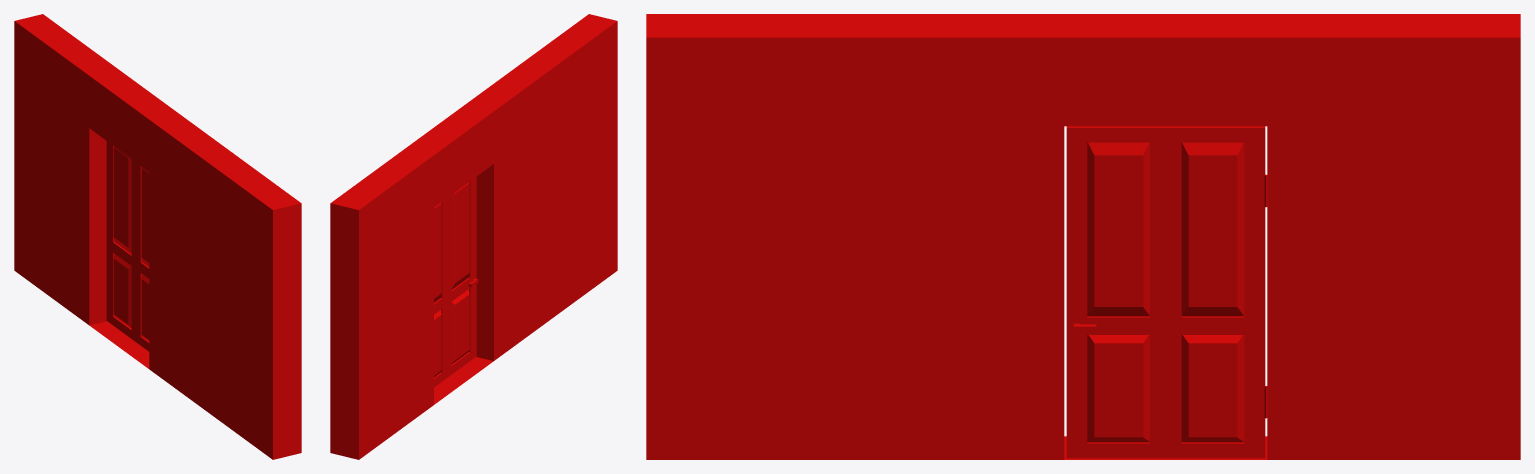
Rendered from walldoor.fbx.
The picture shows the model from 3 angles, left to right: view 1: azimuth 30°, elevation 25°; view 2: azimuth 150°, elevation 25°; view 3: azimuth 270°, elevation 25°; orthographic projection. The views are drawn at different scales.
Visible parts, largest first — view 1: pCylinder20; view 2: pCylinder20; view 3: pCylinder20.
Boxes of the visible parts, bbox=[...] form: pCylinder20: bbox=[14, 14, 301, 459]; pCylinder20: bbox=[330, 14, 617, 459]; pCylinder20: bbox=[646, 14, 1520, 459].
Bounding box in the file's own units: 1.2 × 8.86 × 16.63.
